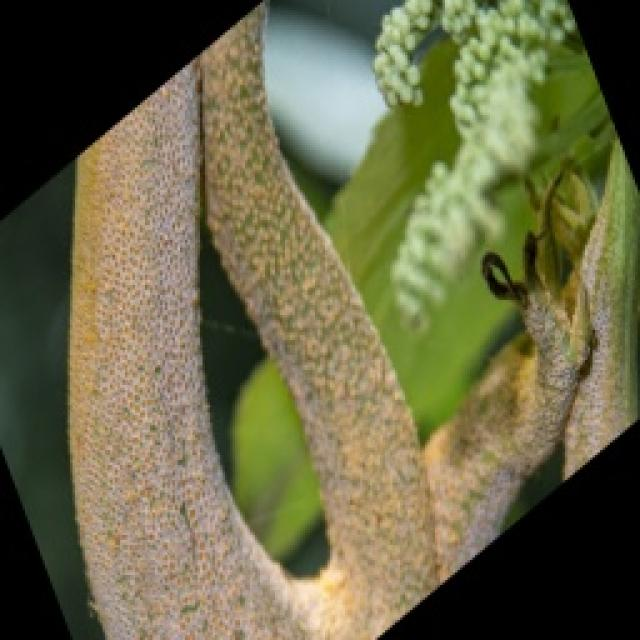Elderberry_rust: (39, 17, 572, 640)
